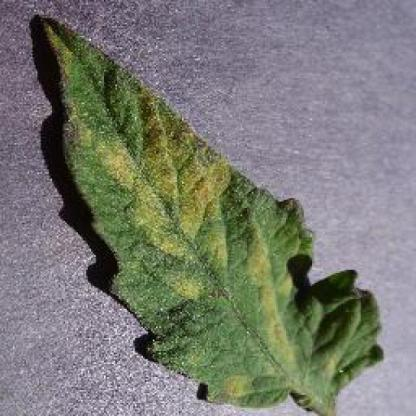Tomato_Leaf_Mold: (42, 17, 384, 403)
